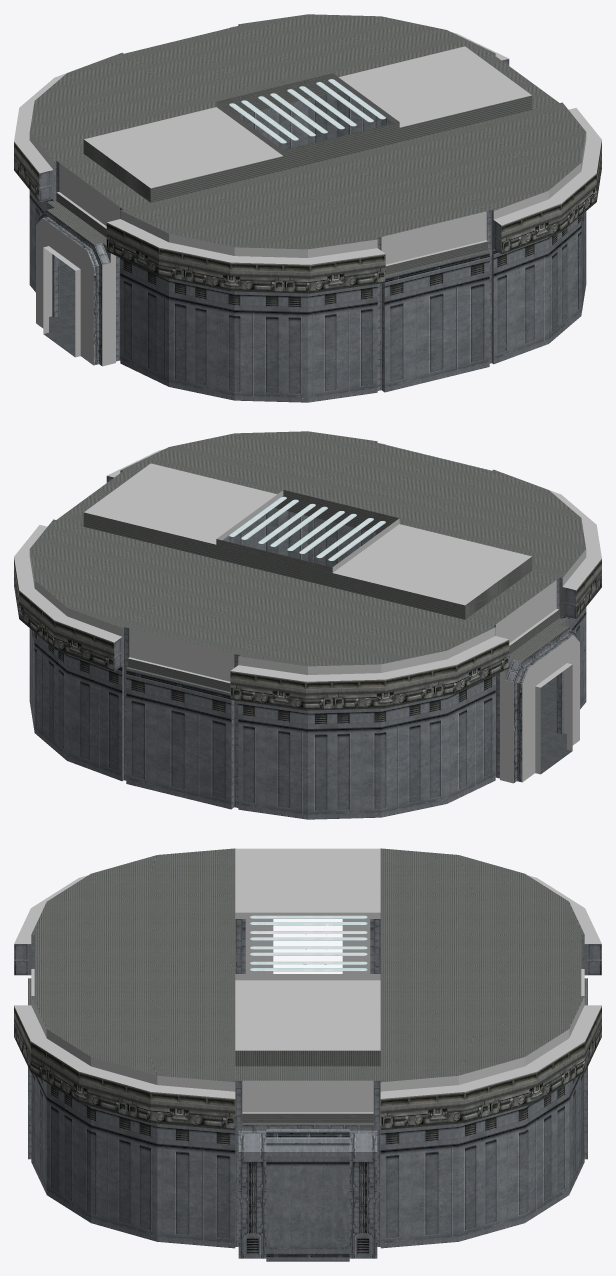
File: poi_all_impl_bunker_warren_s01_r73_smallroom73_mesh_r73.fbx
3 views of the same model, one above another, from view 1: azimuth 30°, elevation 25°; view 2: azimuth 150°, elevation 25°; view 3: azimuth 270°, elevation 25° (orthographic). The views are drawn at different scales.
Visible parts, largest first — view 1: mesh_node; view 2: mesh_node; view 3: mesh_node.
Boxes of the visible parts, x1,y1,x2,y2 form: mesh_node: (14, 14, 601, 402); mesh_node: (14, 431, 601, 819); mesh_node: (14, 848, 601, 1261).
Bounding box in the file's own units: 17.9 × 6 × 17.
